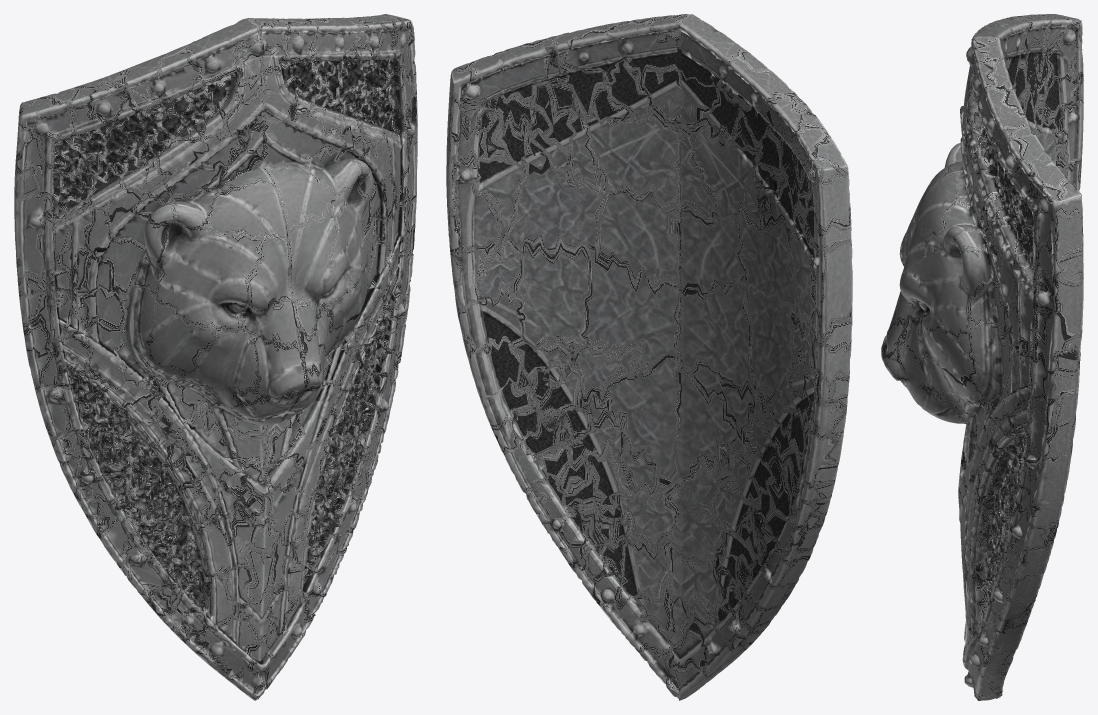
File: shield.glb
3 renders of one model, left to right at view 1: azimuth 30°, elevation 25°; view 2: azimuth 150°, elevation 25°; view 3: azimuth 270°, elevation 25°, orthographic. The views are drawn at different scales.
Visible parts, largest first — view 1: shield; view 2: shield; view 3: shield.
Boxes of the visible parts, x1,y1,x2,y2 form: shield: (14, 14, 417, 700); shield: (446, 14, 852, 700); shield: (881, 14, 1083, 700).
Bounding box in the file's own units: 1.18 × 1.9 × 0.5252.
Materials: 1 (1 with a texture image).
